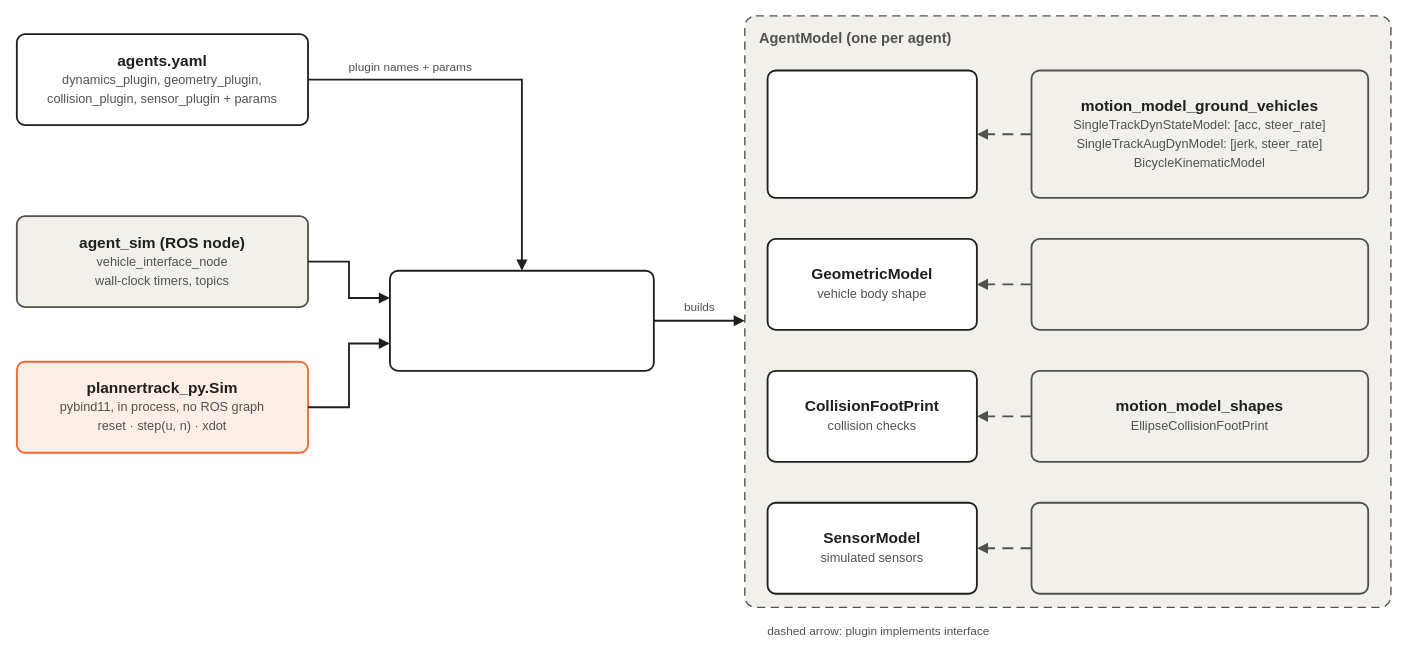
This 1407x657 diagram has some shape labels left out. The centre of each missing label's shape, as x and y in pixels:
DynamicModel step · get/setState · reset: (871,133)
motion_model_sensors LidarSensorModel (ray casting): (1199,547)
motion_model_shapes RectangularGeometry: (1199,284)
VehicleModelFactory 4 pluginlib ClassLoaders, classes resolved by name: (521,320)
